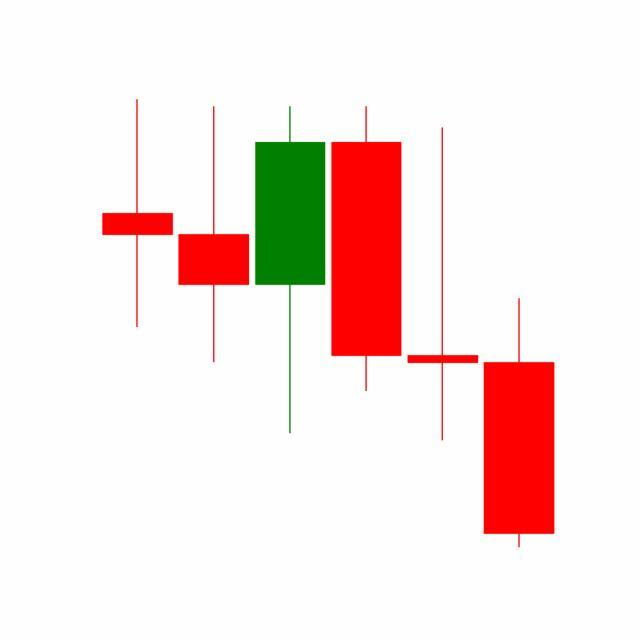Spinning Top: (404, 125, 482, 445)
